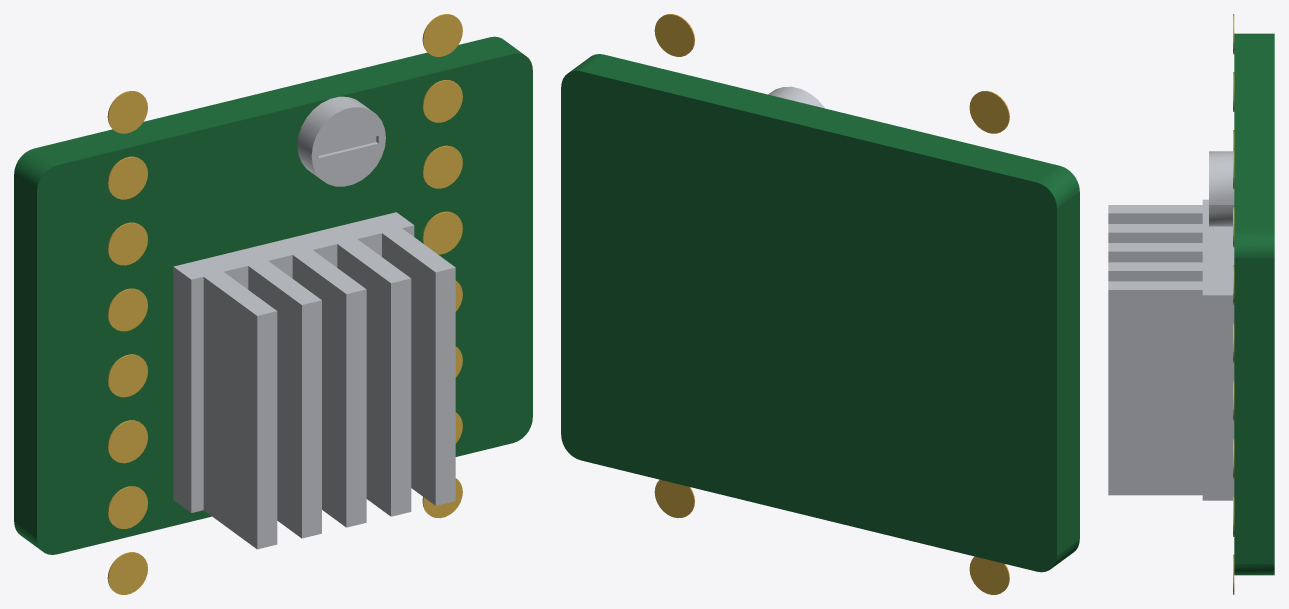
The model's file is a4988-qita-eck.glb.
The picture shows the model from 3 angles, left to right: view 1: azimuth 30°, elevation 25°; view 2: azimuth 150°, elevation 25°; view 3: azimuth 270°, elevation 25°; orthographic projection. The views are drawn at different scales.
Visible parts, largest first — view 1: board, heatsink_4, trimmer_5, pads_1_6, pads_1_7, pads_1_5, pads_1_4, pads_2_6, pads_2_8, pads_2_7, pads_1_8, pads_1_3 (+3 smaller); view 2: board, pads_1_8, pads_2_8, pads_1_1, pads_2_1; view 3: heatsink_4, board, trimmer_5.
Boxes of the visible parts, x1,y1,x2,y2 form: board: [14, 36, 532, 554]; heatsink_4: [173, 212, 455, 549]; trimmer_5: [297, 96, 385, 186]; pads_1_6: [107, 222, 147, 265]; pads_1_7: [107, 156, 147, 199]; pads_1_5: [107, 288, 147, 331]; pads_1_4: [107, 354, 147, 397]; pads_2_6: [422, 145, 462, 188]; pads_2_8: [422, 14, 462, 56]; pads_2_7: [422, 80, 462, 122]; pads_1_8: [107, 90, 147, 133]; pads_1_3: [107, 420, 147, 463]; board: [561, 54, 1079, 572]; pads_1_8: [969, 90, 1009, 133]; pads_2_8: [654, 14, 694, 56]; pads_1_1: [969, 556, 1009, 594]; pads_2_1: [654, 480, 694, 518]; heatsink_4: [1108, 199, 1234, 500]; board: [1234, 33, 1274, 575]; trimmer_5: [1209, 151, 1234, 226].
Bounding box in the file's own units: 20 × 19.37 × 6.6.
